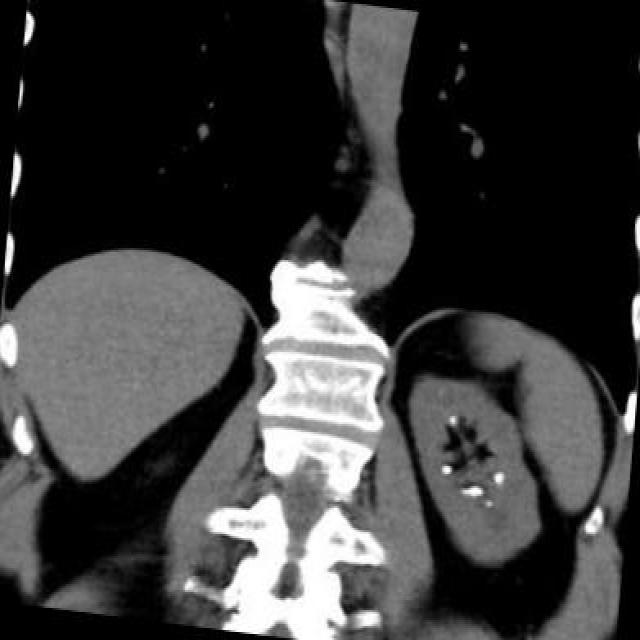Tas_Var: (466, 485, 484, 497), (492, 468, 505, 484), (439, 462, 451, 478), (483, 497, 493, 507), (459, 486, 467, 494), (447, 419, 453, 427), (448, 414, 454, 420)
